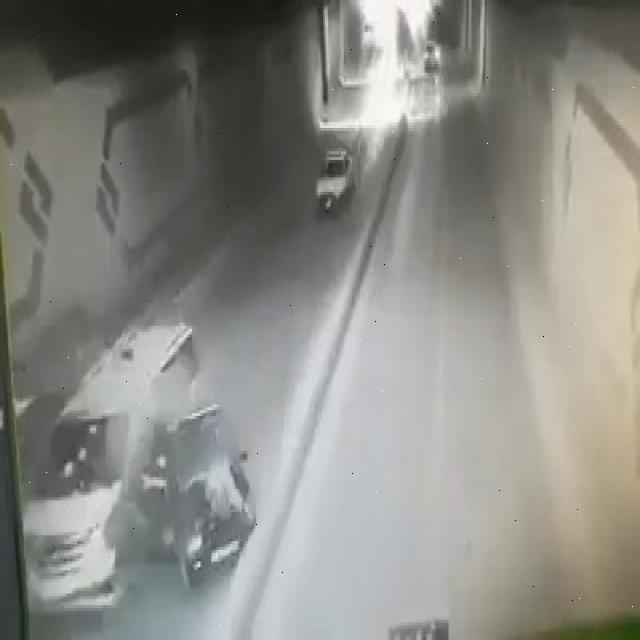accident: (20, 303, 241, 609)
